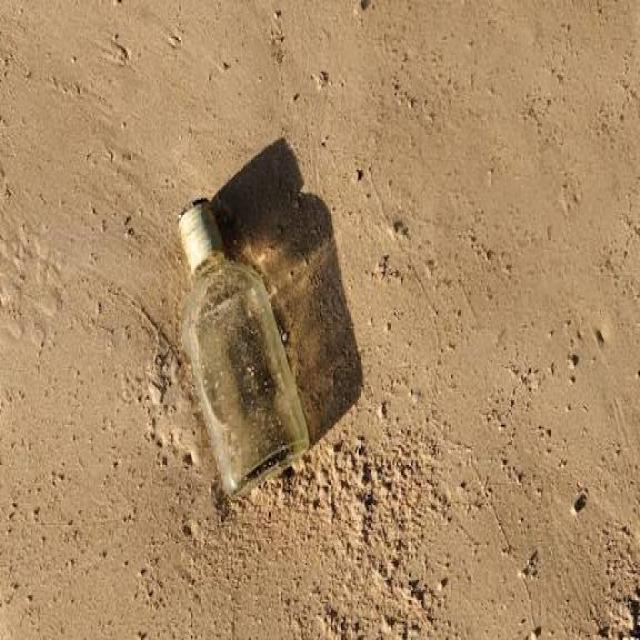glass: (152, 182, 344, 540)
